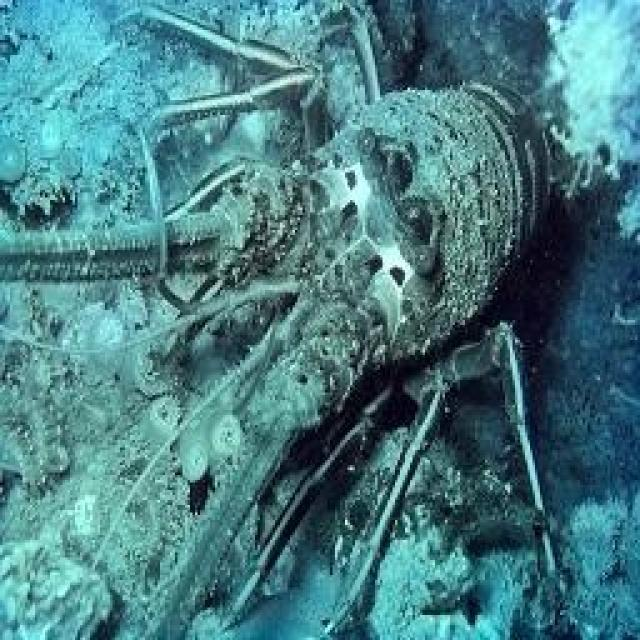reefs: (0, 52, 559, 638)
